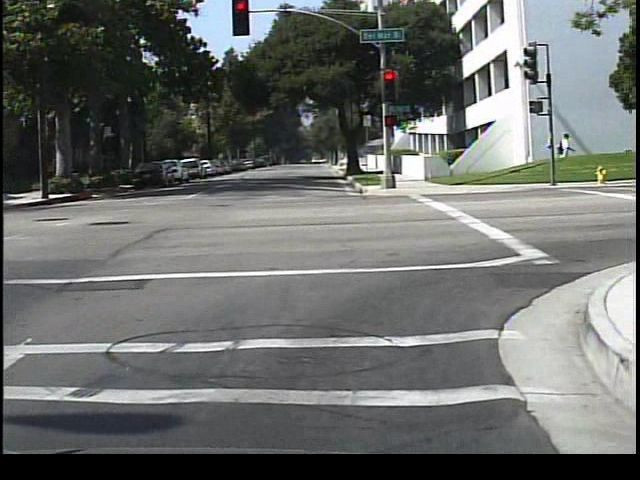person: (551, 126, 574, 177)
